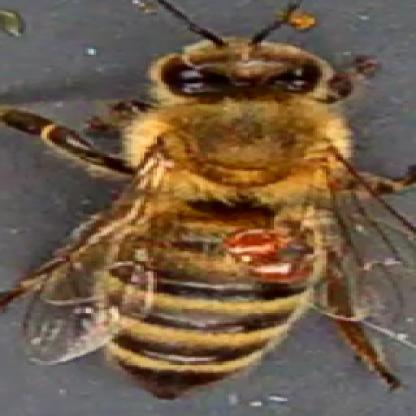bee: (116, 27, 332, 416)
vaoora: (231, 230, 273, 260), (258, 263, 298, 281)
